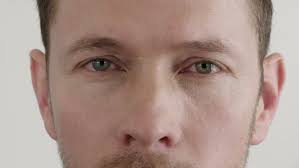white_male: (44, 15, 266, 168)
